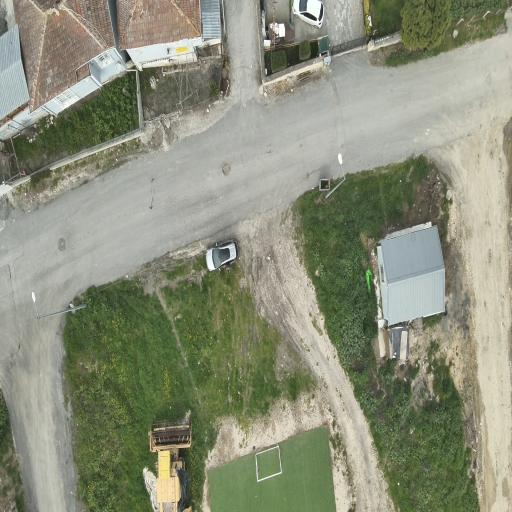car: (206, 240, 238, 270), (292, 0, 324, 28)
harvester: (150, 420, 191, 511)
